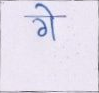e_matra: (35, 3, 56, 15)
